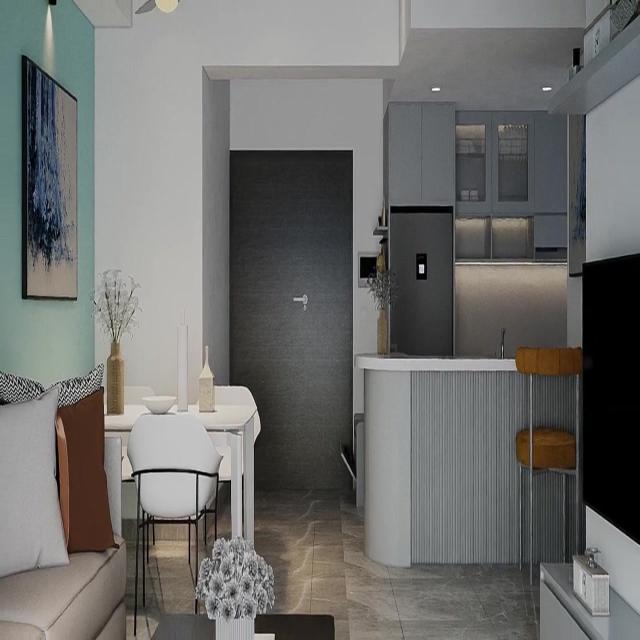door: (229, 148, 353, 492)
obstacle: (0, 365, 126, 638), (123, 412, 224, 630), (514, 345, 582, 586), (389, 205, 453, 356)
